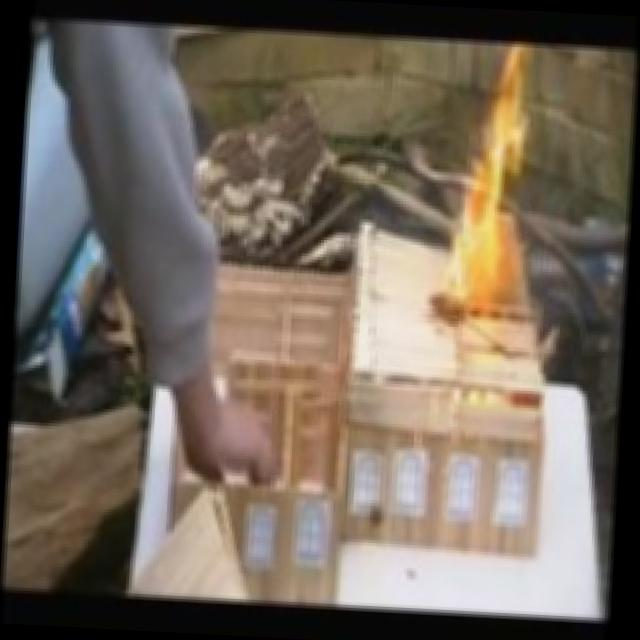fire: (417, 34, 558, 332)
